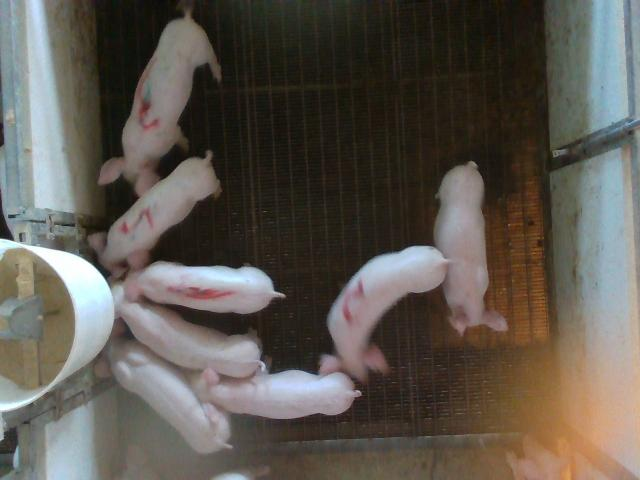pig-1: (124, 261, 285, 313)
pig-2: (320, 246, 448, 381)
pig-3: (100, 0, 221, 196)
pig-5: (90, 151, 220, 278)
